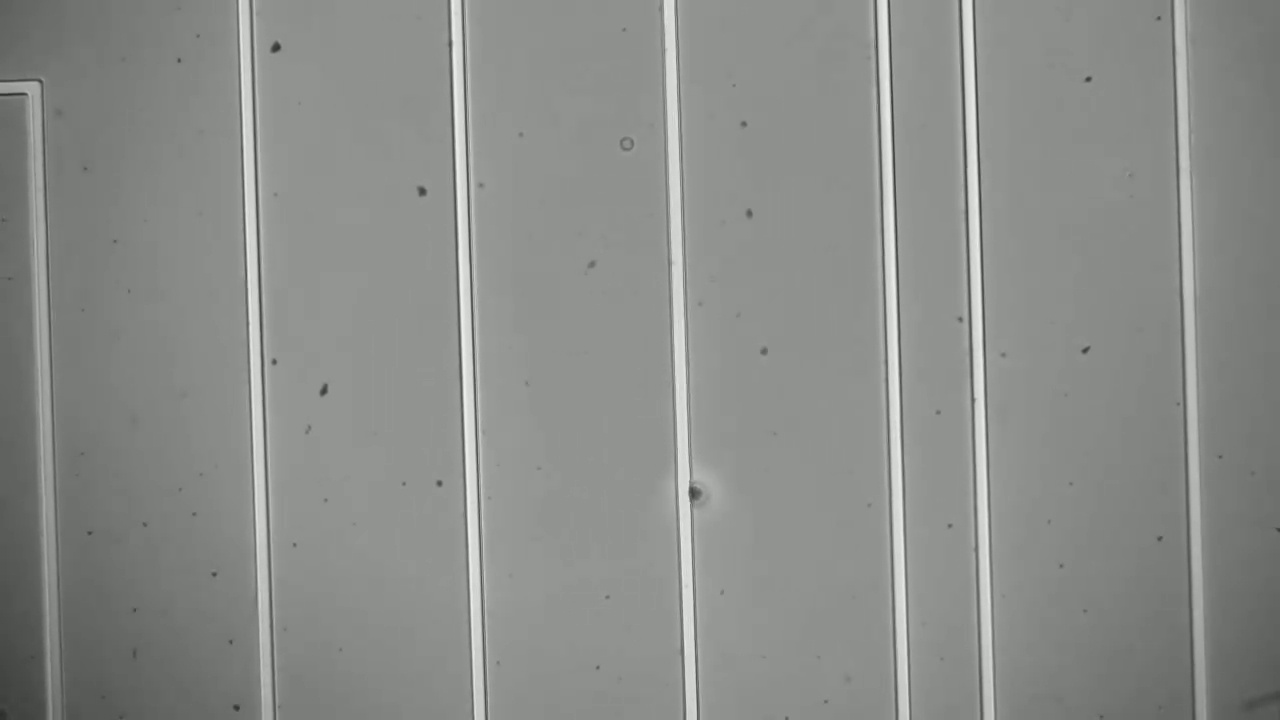stains_enbedded: (665, 473, 723, 520)
